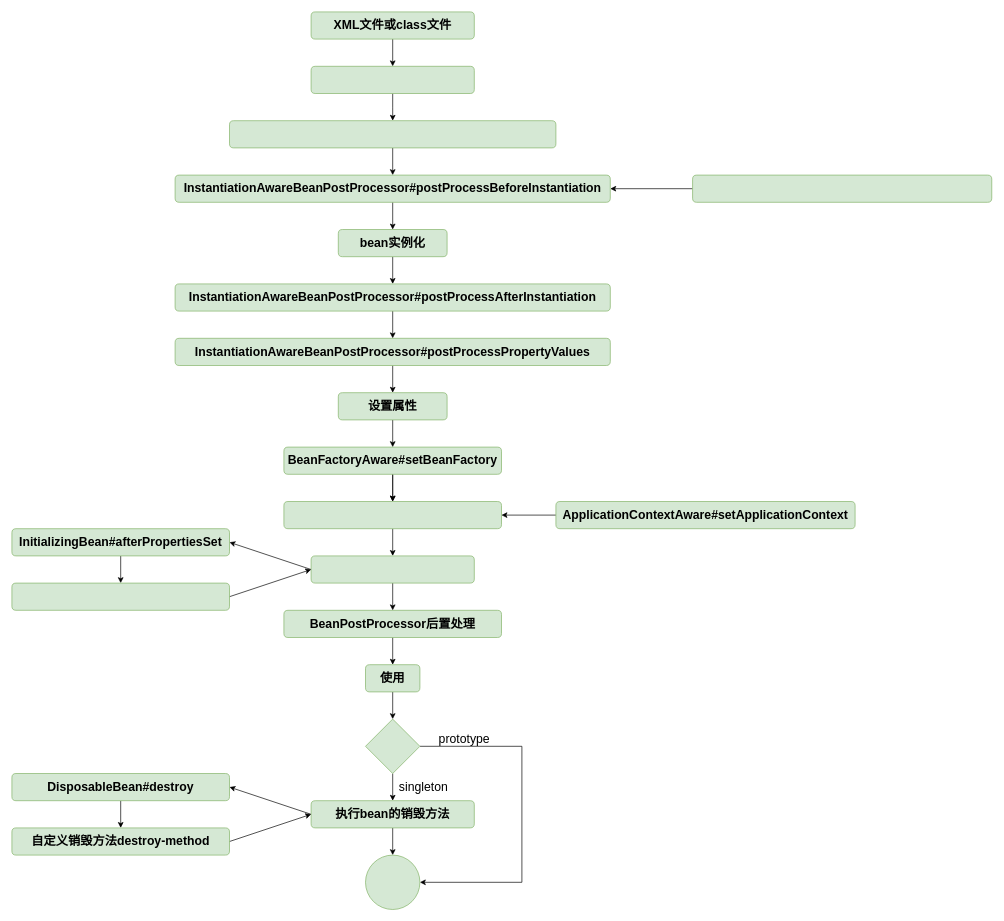
Some shapes in this 1004 by 921 pixel diagram are drawn without their labels. The shapes that lost their labels are listed below. From the top down, each one's centre as x and y in pixels, then its label:
the point at 392,80: BeanDefinition
the point at 392,134: BeanFactoryPostProcessor修改BeanDefinition
the point at 842,188: 如果此处返回bean，会导致短路，不继续往下执行
the point at 392,515: BeanPostProcessor前置处理
the point at 392,569: 执行bean的初始化方法
the point at 120,596: 自定义初始化方法init-method
the point at 392,746: scope？
